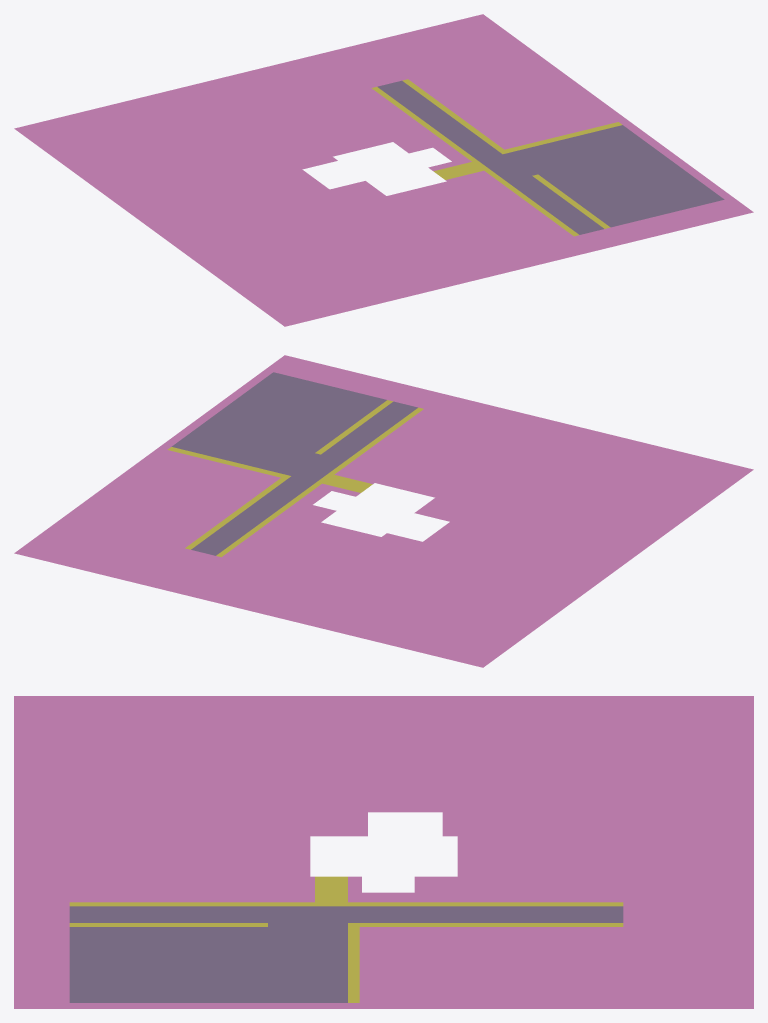
The model's file is Outside.fbx.
3 views of the same model, one above another, from view 1: azimuth 30°, elevation 25°; view 2: azimuth 150°, elevation 25°; view 3: azimuth 270°, elevation 25° (orthographic). The views are drawn at different scales.
Visible parts, largest first — view 1: Outside; view 2: Outside; view 3: Outside.
Part boxes in pixels (bbox=[...]): Outside: bbox=[14, 14, 753, 326]; Outside: bbox=[14, 355, 753, 667]; Outside: bbox=[14, 696, 753, 1008].
Size of the model in its own units: 186641 by 0.000244 by 186641.
